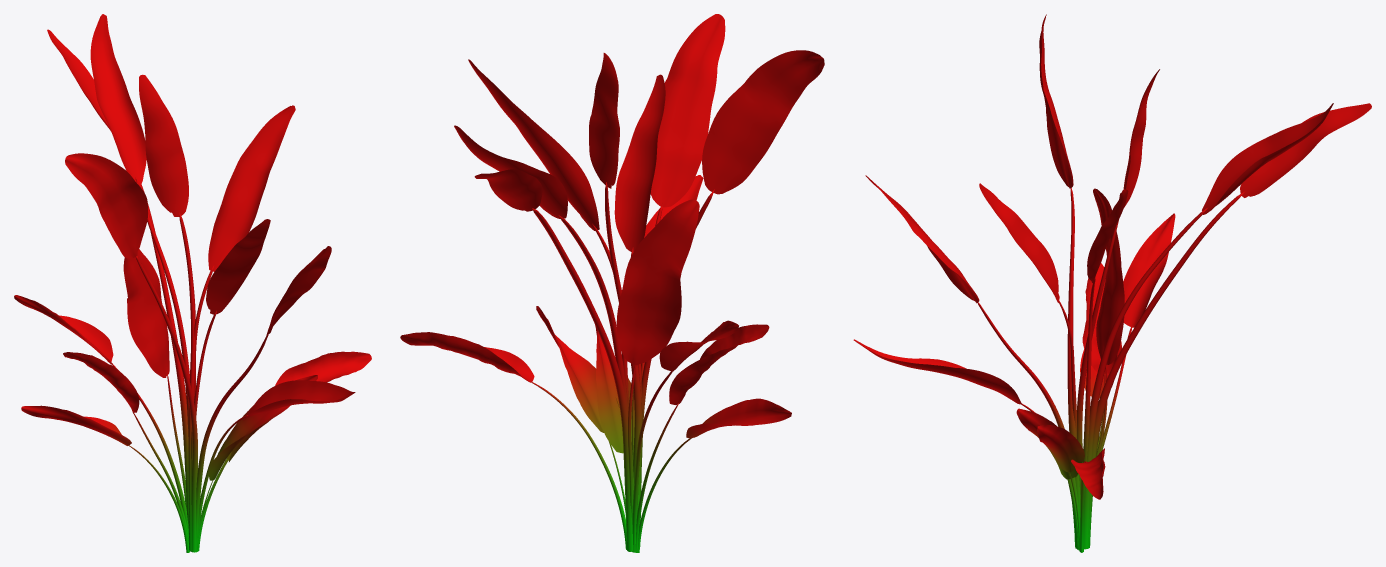
The model's file is Var12_LOD0.fbx.
3 views of the same model, side by side, from view 1: azimuth 30°, elevation 25°; view 2: azimuth 150°, elevation 25°; view 3: azimuth 270°, elevation 25° (orthographic). The views are drawn at different scales.
Parts seen in each view (by area): view 1: _uc2d_Var12_LOD0; view 2: _uc2d_Var12_LOD0; view 3: _uc2d_Var12_LOD0.
Boxes of the visible parts, x1,y1,x2,y2 form: _uc2d_Var12_LOD0: (14,14,371,552); _uc2d_Var12_LOD0: (400,14,824,552); _uc2d_Var12_LOD0: (853,14,1371,552).
Size of the model in its own units: 126 by 160 by 159.
